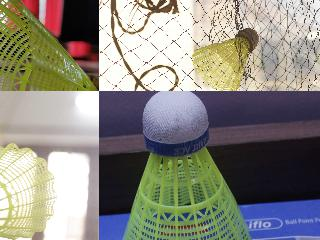shuttlecock: (117, 91, 253, 239), (0, 0, 98, 90), (0, 143, 57, 240), (191, 28, 259, 90)
